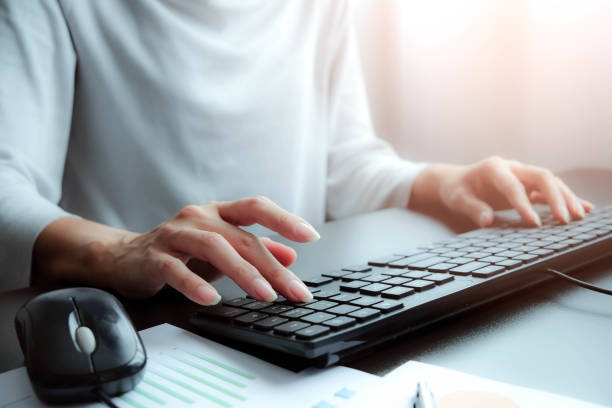keyboard: (194, 201, 612, 358)
mouse: (12, 283, 150, 408)
